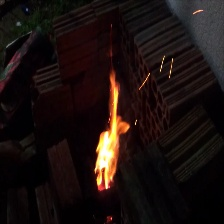fire: (81, 68, 128, 194)
